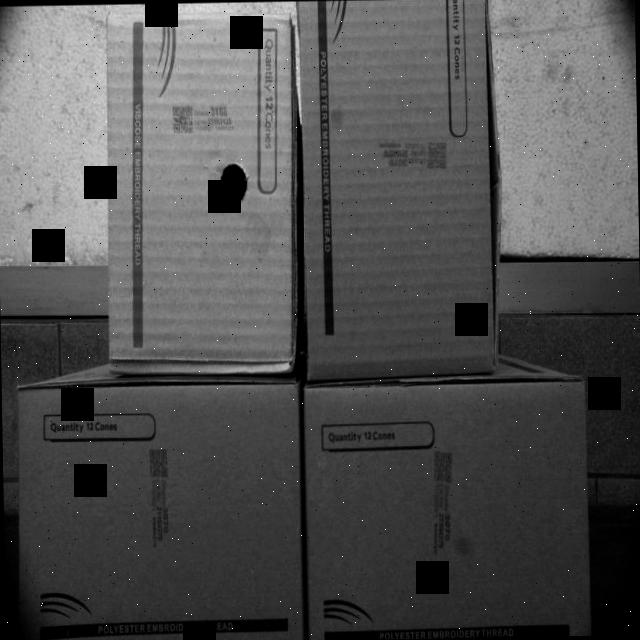box: (298, 0, 503, 380), (302, 372, 592, 640), (10, 380, 305, 640), (102, 11, 296, 372)
